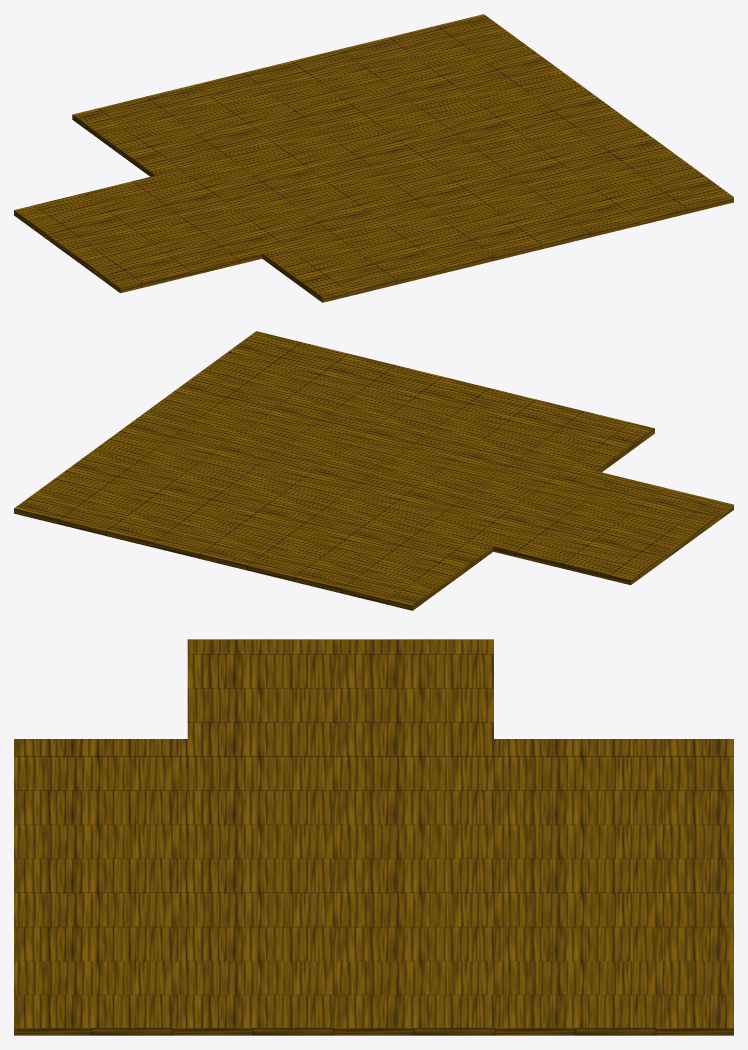
Rendered from Floor.fbx.
3 views of the same model, one above another, from view 1: azimuth 30°, elevation 25°; view 2: azimuth 150°, elevation 25°; view 3: azimuth 270°, elevation 25° (orthographic). The views are drawn at different scales.
Parts seen in each view (by area): view 1: pCube14; view 2: pCube14; view 3: pCube14.
Boxes of the visible parts, left/top/right/bottom form: pCube14: left=14, top=14, right=733, bottom=302; pCube14: left=14, top=331, right=733, bottom=610; pCube14: left=14, top=639, right=733, bottom=1035.
Bounding box in the file's own units: 10894 × 100 × 8528.
1 material, 1 textured.
